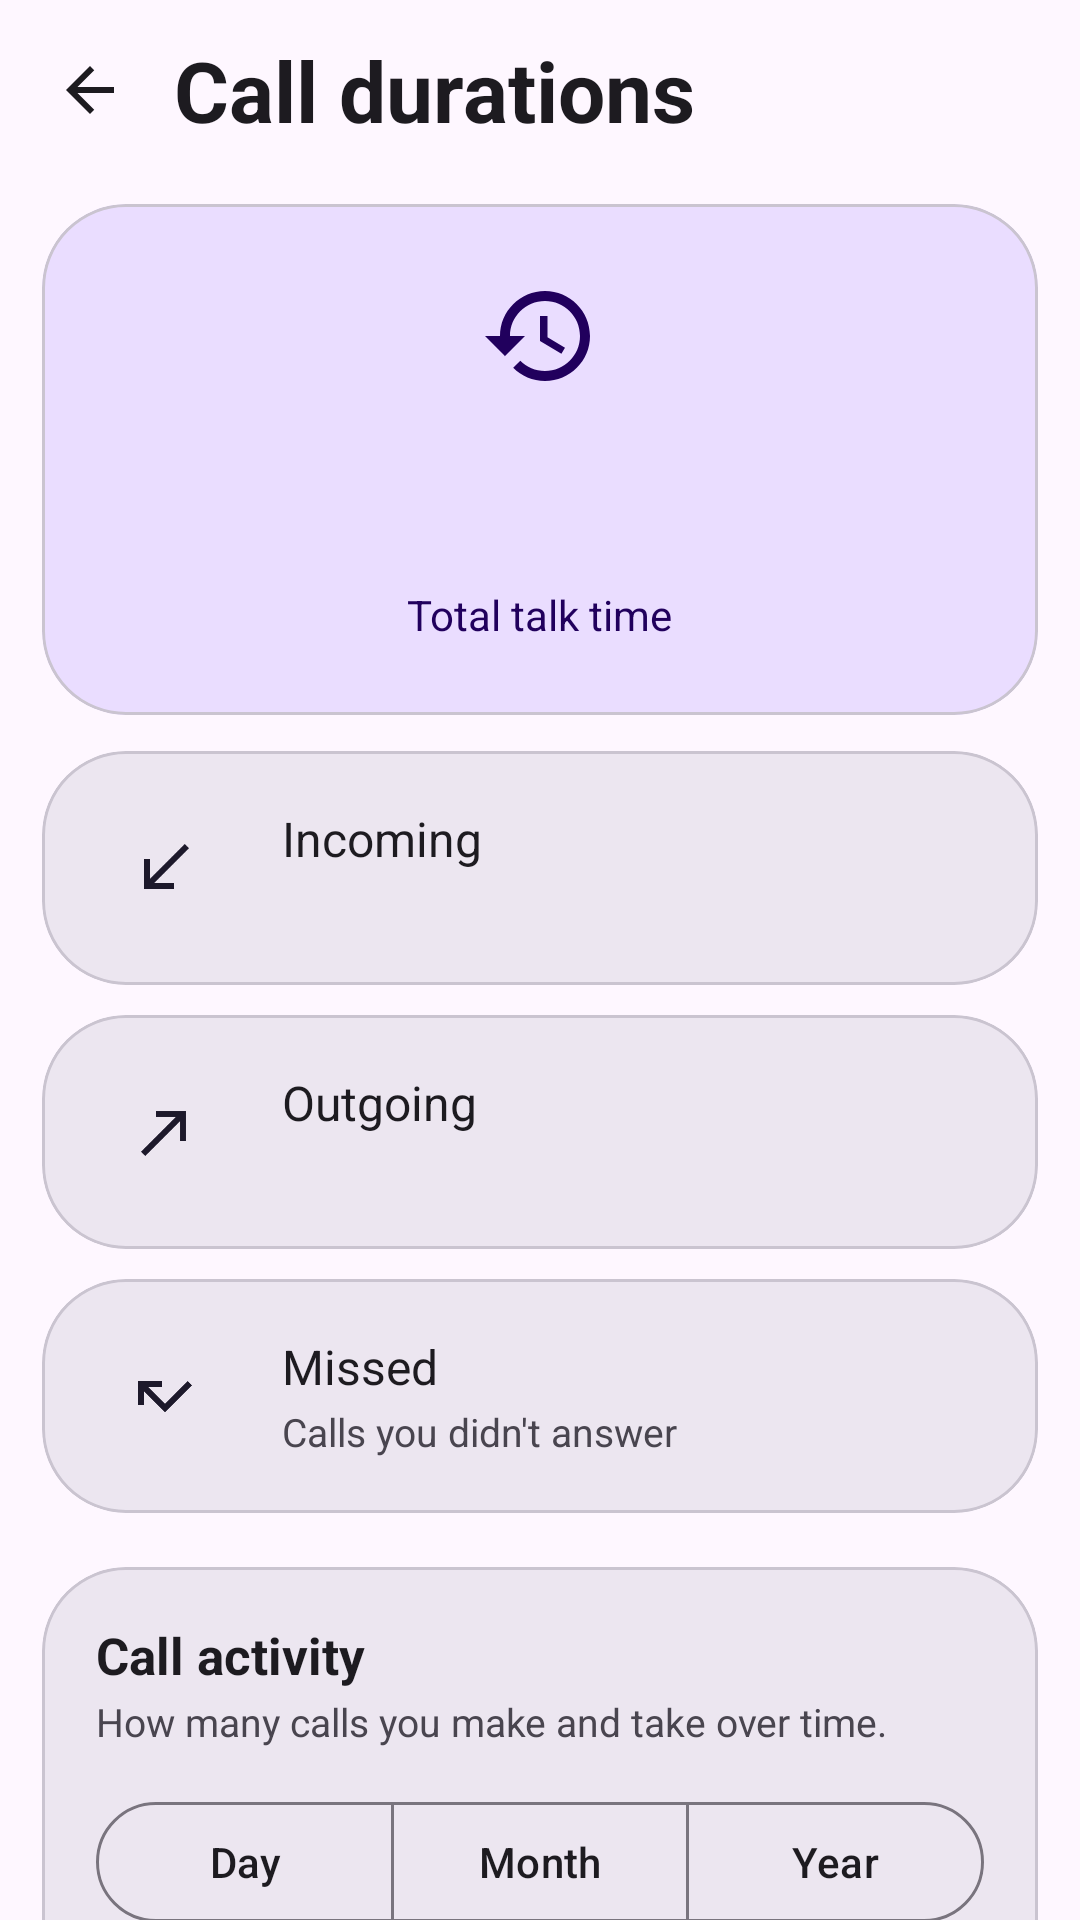

Icons on this 1080x1920 Android screen, each with the point to tap as point (x, y):
Total talk time: point (537, 336)
